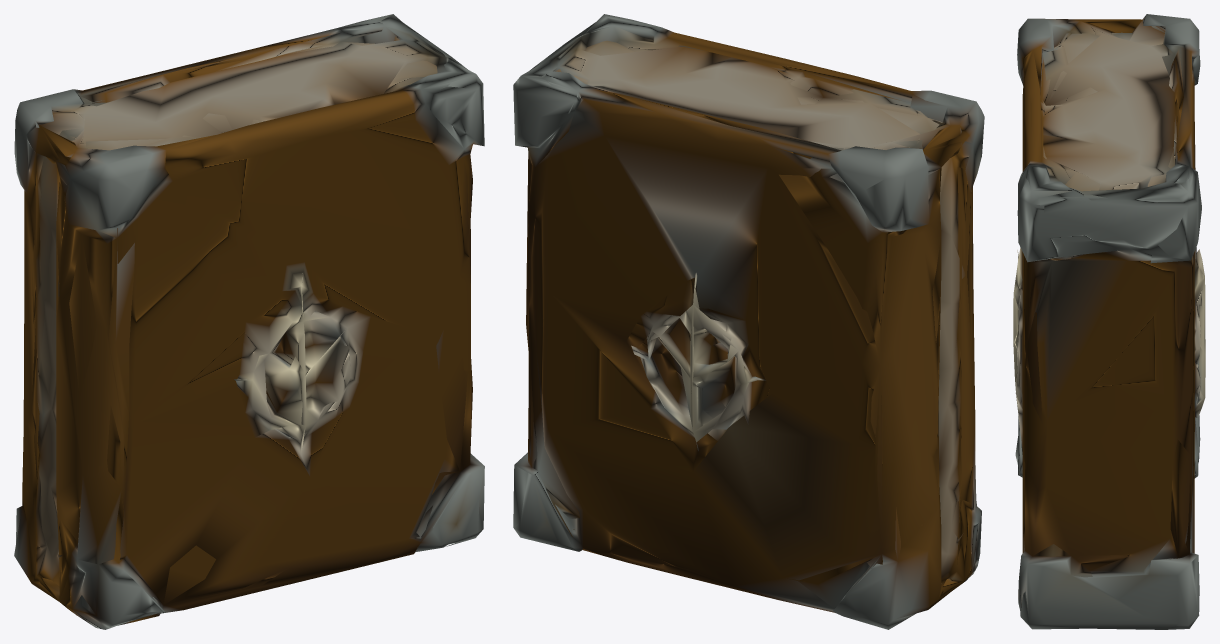
File: gen3d-spell-book-lod0.glb
The picture shows the model from 3 angles, left to right: view 1: azimuth 30°, elevation 25°; view 2: azimuth 150°, elevation 25°; view 3: azimuth 270°, elevation 25°; orthographic projection. The views are drawn at different scales.
Parts seen in each view (by area): view 1: part_0; view 2: part_0; view 3: part_0.
Part boxes in pixels (x1,y1,x2,y2): part_0: (14, 14, 484, 629); part_0: (513, 14, 984, 629); part_0: (1013, 14, 1205, 629).
Size of the model in its own units: 0.8886 by 0.9993 by 0.3938.
